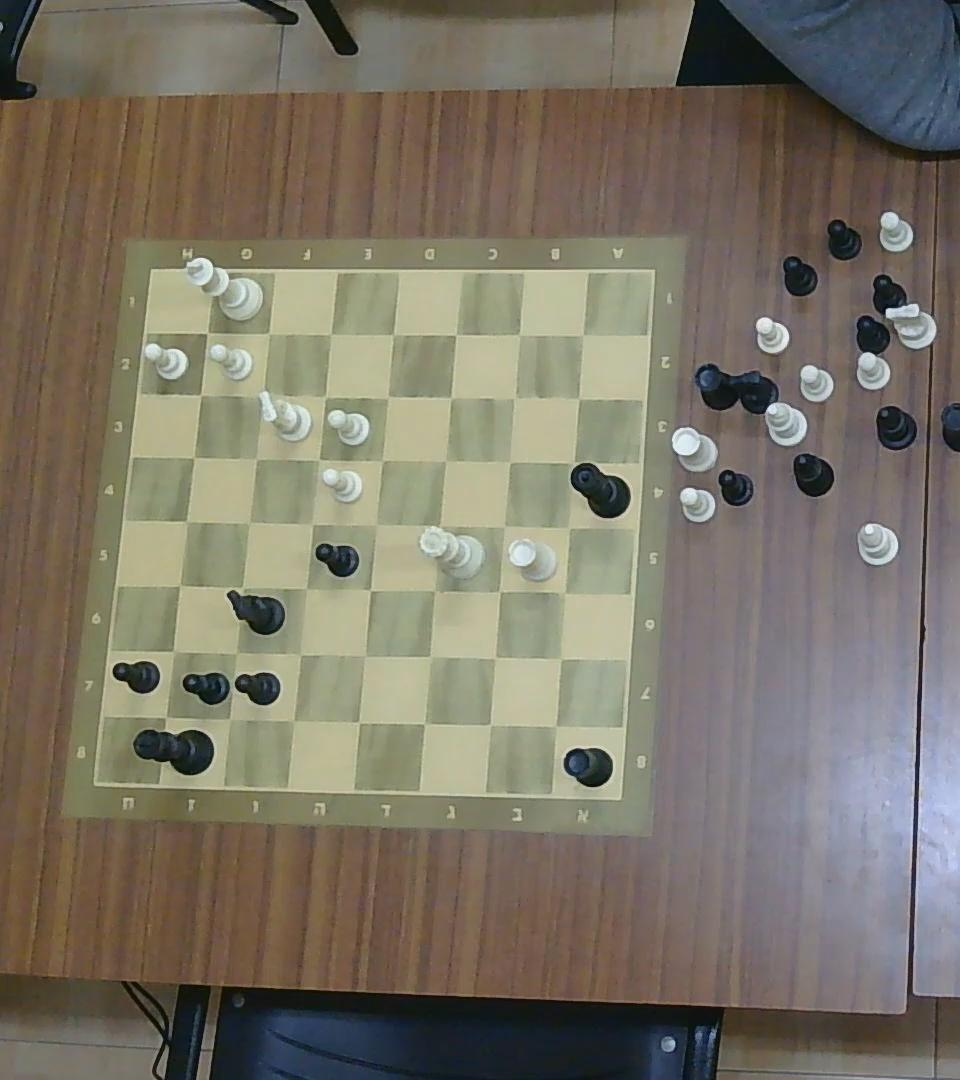xcorner: (279, 706, 305, 734), (215, 705, 241, 732), (411, 710, 437, 737), (417, 642, 443, 669), (543, 713, 569, 740), (153, 702, 179, 728), (477, 712, 503, 738), (352, 641, 377, 668), (379, 320, 404, 347), (486, 578, 511, 605), (547, 644, 572, 671), (369, 447, 394, 473), (167, 572, 192, 598), (287, 639, 311, 666), (346, 709, 371, 734), (558, 448, 583, 473), (481, 645, 506, 670), (375, 383, 399, 409), (421, 577, 445, 603), (491, 513, 515, 539), (426, 513, 450, 539), (223, 640, 247, 665), (174, 507, 198, 532), (237, 510, 261, 535), (557, 515, 581, 540), (552, 579, 576, 604), (358, 576, 382, 601), (294, 576, 318, 601), (229, 574, 253, 599), (196, 319, 219, 345), (162, 638, 185, 664), (257, 319, 280, 345), (188, 381, 212, 405), (318, 321, 341, 346), (497, 448, 520, 473), (438, 384, 461, 408), (245, 445, 268, 469), (300, 512, 323, 536), (364, 512, 387, 536), (250, 381, 273, 405), (570, 322, 594, 345), (444, 322, 467, 345), (306, 447, 329, 470), (508, 322, 531, 345), (182, 445, 204, 469), (433, 448, 455, 472), (313, 384, 335, 408), (503, 386, 525, 409), (567, 387, 588, 409)
